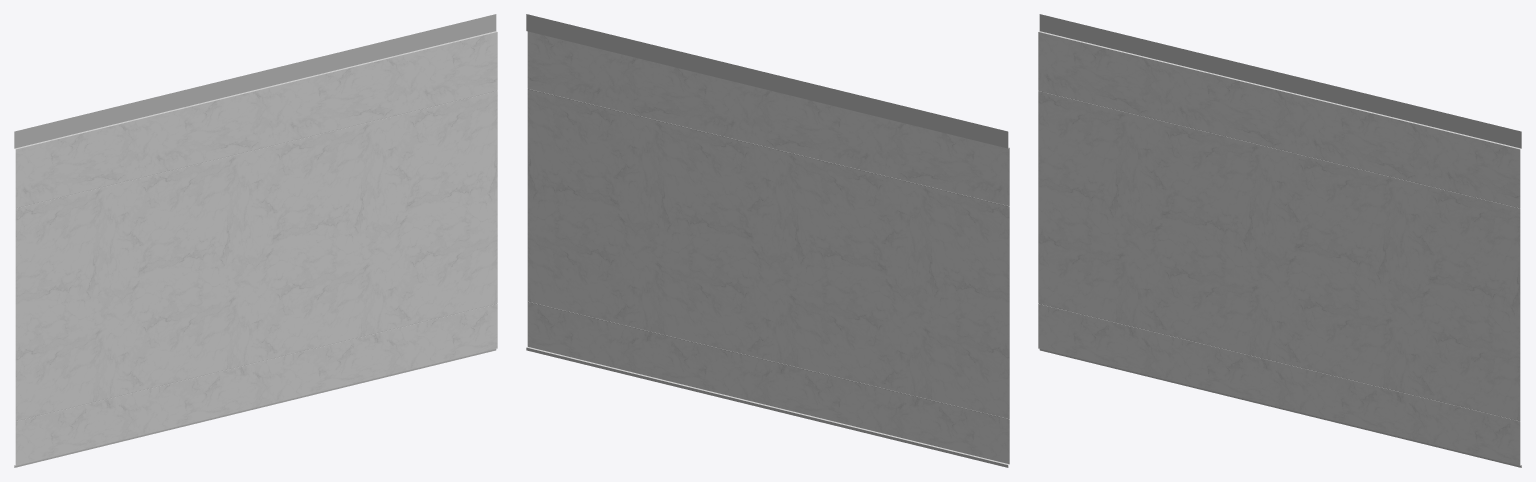
3 views of the same model, side by side, from view 1: azimuth 30°, elevation 25°; view 2: azimuth 150°, elevation 25°; view 3: azimuth 330°, elevation 25° (orthographic).
Visible parts, largest first — view 1: M_W_011_e_18x12; view 2: M_W_011_e_18x12; view 3: M_W_011_e_18x12.
Boxes of the visible parts, left/top/right/bottom form: M_W_011_e_18x12: left=14, top=14, right=497, bottom=467; M_W_011_e_18x12: left=526, top=14, right=1009, bottom=467; M_W_011_e_18x12: left=1038, top=14, right=1521, bottom=467.
Size of the model in its own units: 18 by 12.01 by 0.08.
